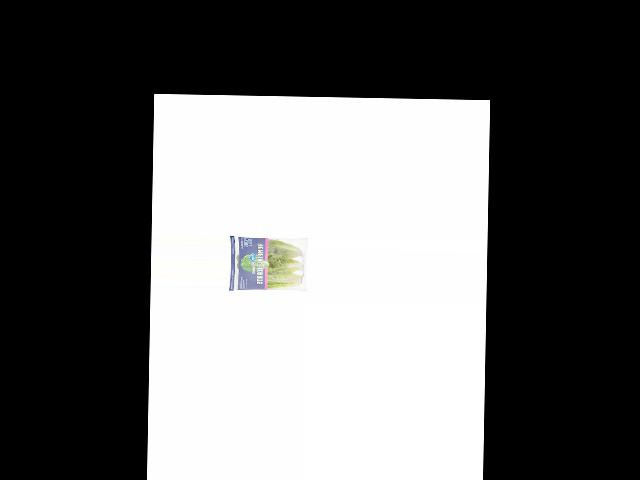lettuce: (230, 233, 305, 294)
